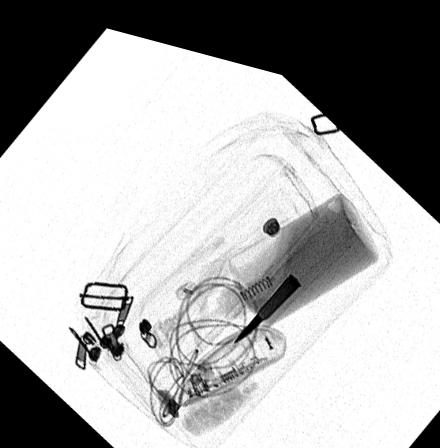Bullet: (230, 255, 303, 332)
